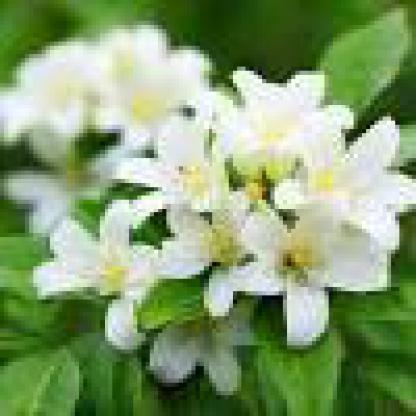Melati: (14, 35, 396, 322)
